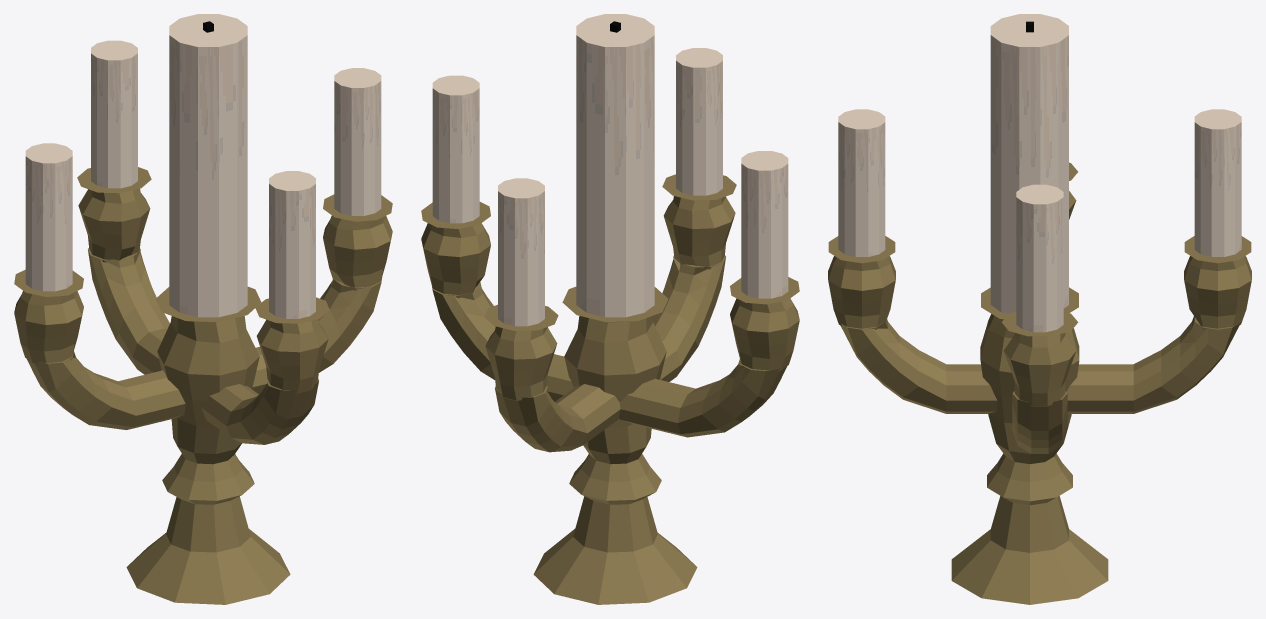
Rendered from candlealbra_large.gltf.
3 renders of one model, left to right at view 1: azimuth 30°, elevation 25°; view 2: azimuth 150°, elevation 25°; view 3: azimuth 270°, elevation 25°, orthographic.
Parts seen in each view (by area): view 1: candle (×5), candleabra (×5), cylinder (×4); view 2: candle (×5), candleabra (×5), cylinder (×4); view 3: candle (×4), candleabra (×4), cylinder (×3).
Boxes of the visible parts, <box> form: candle (×5): <box>25,14,381,318</box>; candleabra (×5): <box>14,167,392,604</box>; cylinder (×4): <box>27,248,382,444</box>; candle (×5): <box>432,14,788,326</box>; candleabra (×5): <box>421,174,799,604</box>; cylinder (×4): <box>432,255,787,452</box>; candle (×4): <box>838,14,1241,332</box>; candleabra (×4): <box>828,236,1251,604</box>; cylinder (×3): <box>840,316,1240,453</box>.
Size of the model in its own units: 0.169 by 0.2406 by 0.169.
3 materials, 3 textured.
